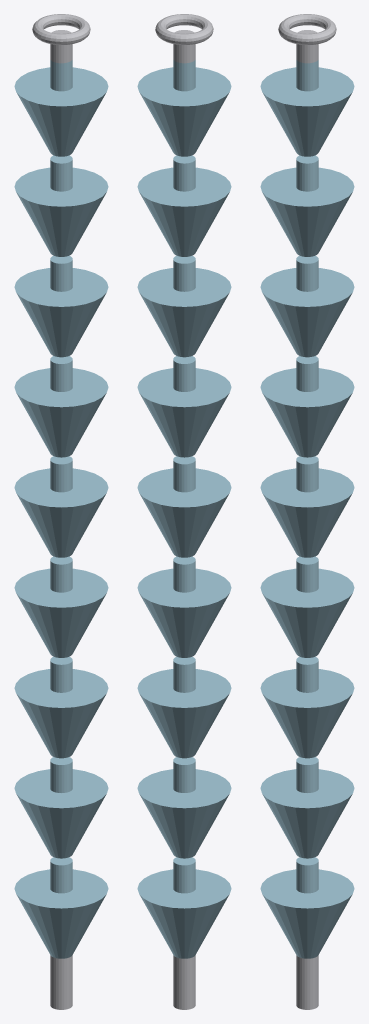
File: Cadena_1150mm.fbx
The picture shows the model from 3 angles, left to right: view 1: azimuth 90°, elevation 25°; view 2: azimuth 150°, elevation 25°; view 3: azimuth 270°, elevation 25°; orthographic projection.
Parts seen in each view (by area): view 1: Cadena_1150mm; view 2: Cadena_1150mm; view 3: Cadena_1150mm.
Boxes of the visible parts, x1=… form: Cadena_1150mm: x1=14, y1=14, x2=108, y2=1009; Cadena_1150mm: x1=137, y1=14, x2=231, y2=1009; Cadena_1150mm: x1=260, y1=14, x2=354, y2=1009.
Bounding box in the file's own units: 10 × 115 × 10.
